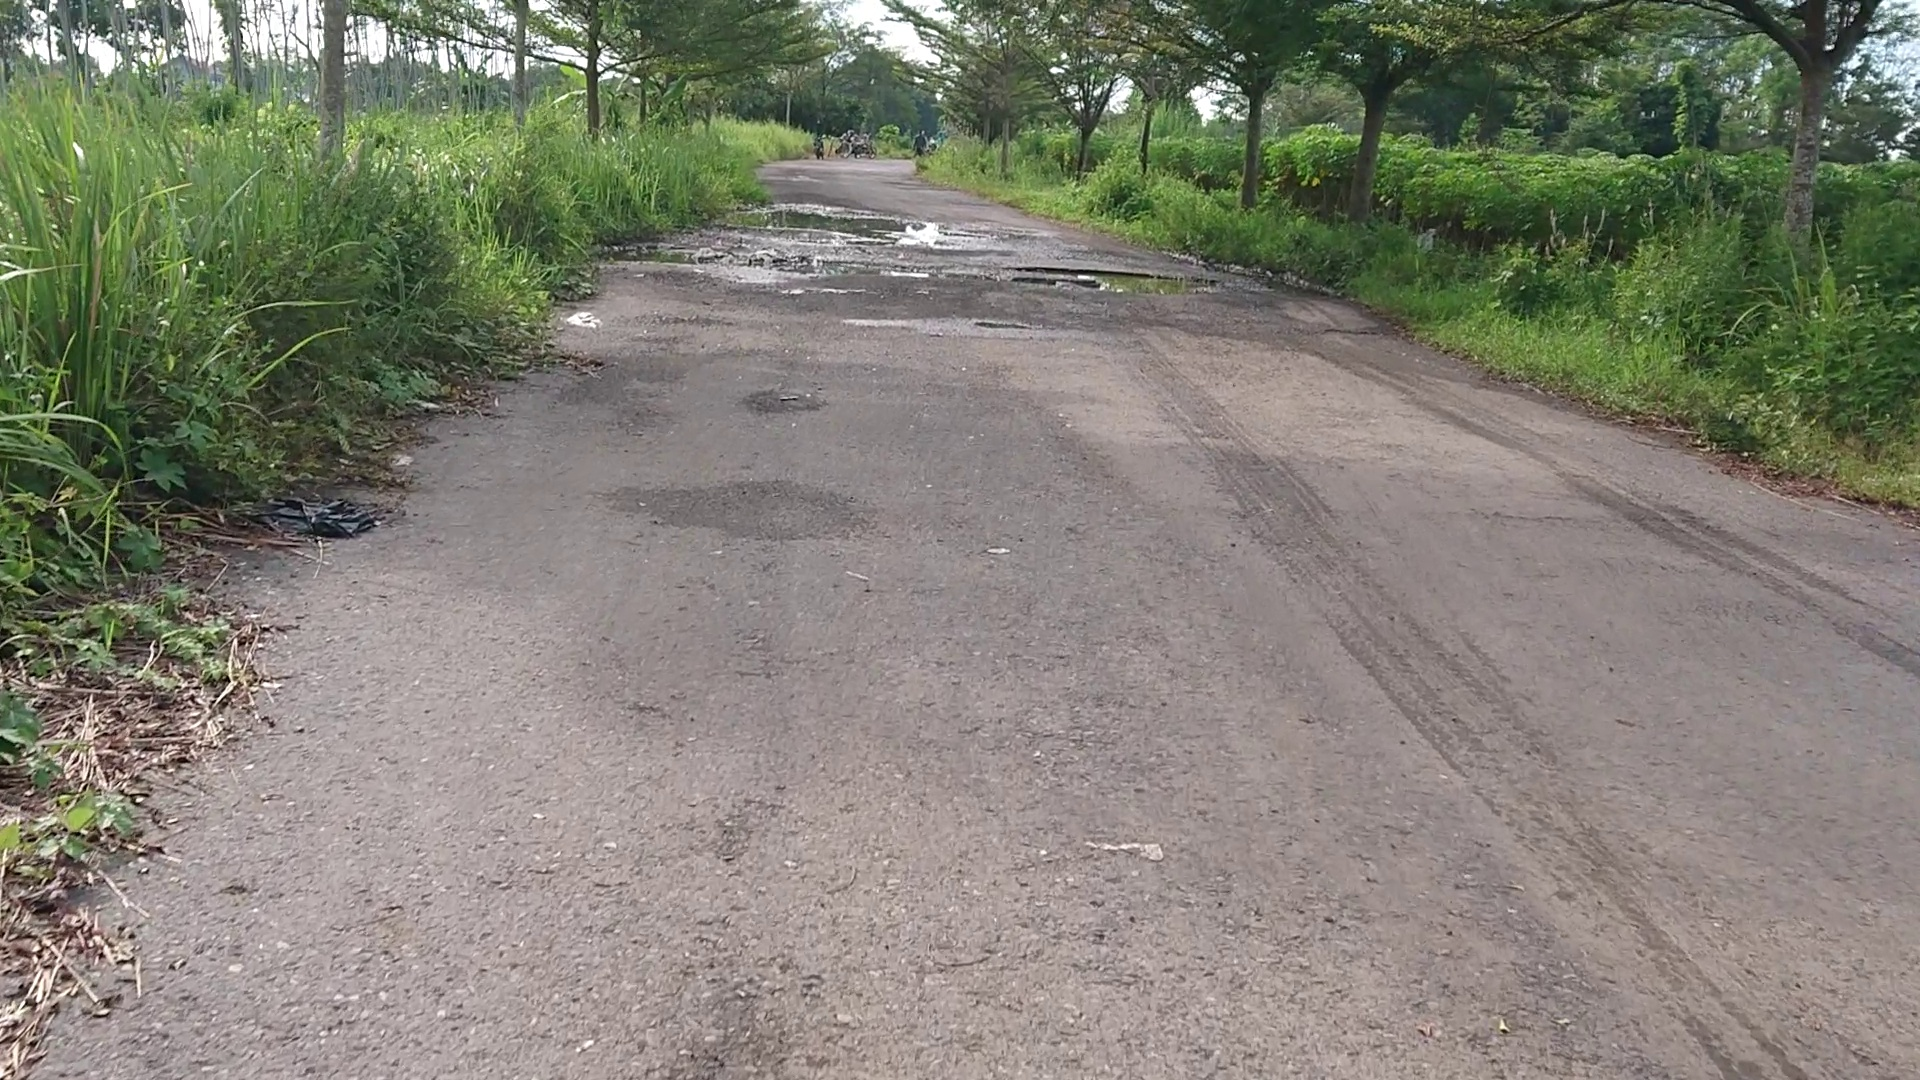Berlubang: (940, 251, 1236, 302), (731, 195, 953, 253)
